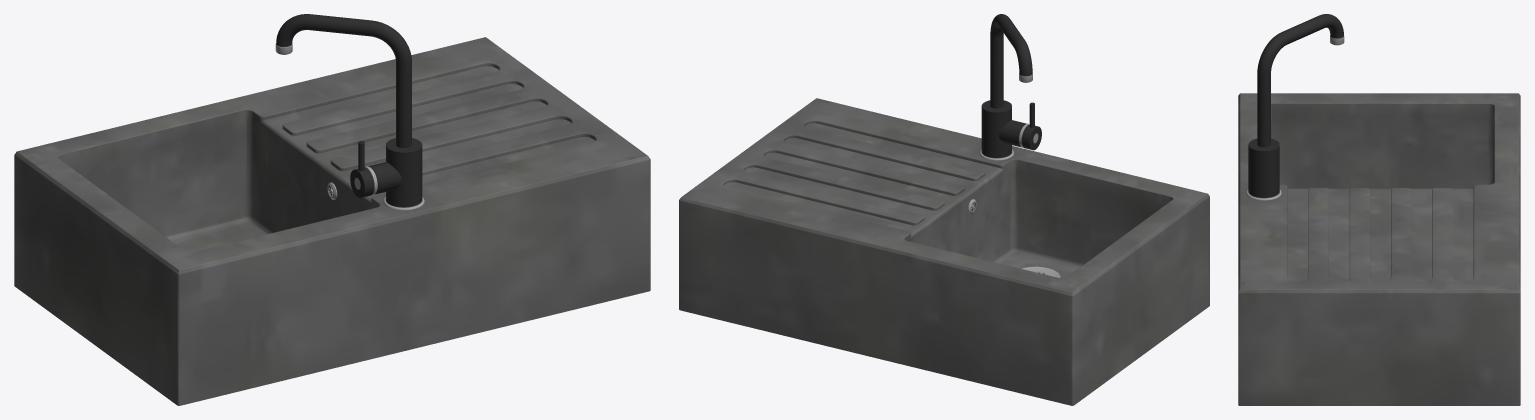
The model's file is s_fregadero_piedra.glb.
3 renders of one model, left to right at view 1: azimuth 30°, elevation 25°; view 2: azimuth 150°, elevation 25°; view 3: azimuth 270°, elevation 25°, orthographic. The views are drawn at different scales.
Visible parts, largest first — view 1: defaultMaterial; view 2: defaultMaterial; view 3: defaultMaterial.
Boxes of the visible parts, x1,y1,x2,y2 form: defaultMaterial: [14, 14, 650, 405]; defaultMaterial: [679, 14, 1209, 405]; defaultMaterial: [1238, 14, 1520, 405].
Bounding box in the file's own units: 1.35 × 0.85 × 0.8135.
1 material, 1 textured.
